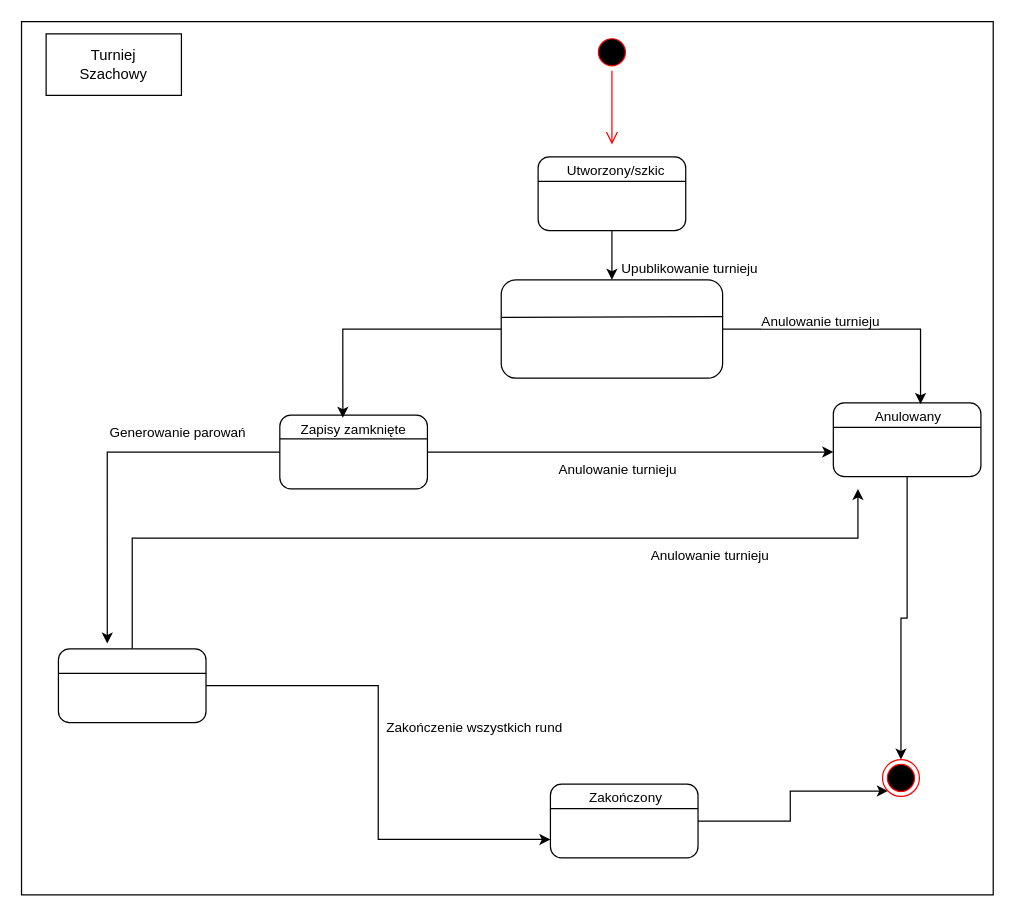
Some shapes in this 1015 by 916 pixel diagram are drawn without their labels. Each missing label, with the box of its shape:
Opublikowany / zapisy otwarte: (500, 279, 723, 378)
W trakcie: (57, 648, 206, 723)
